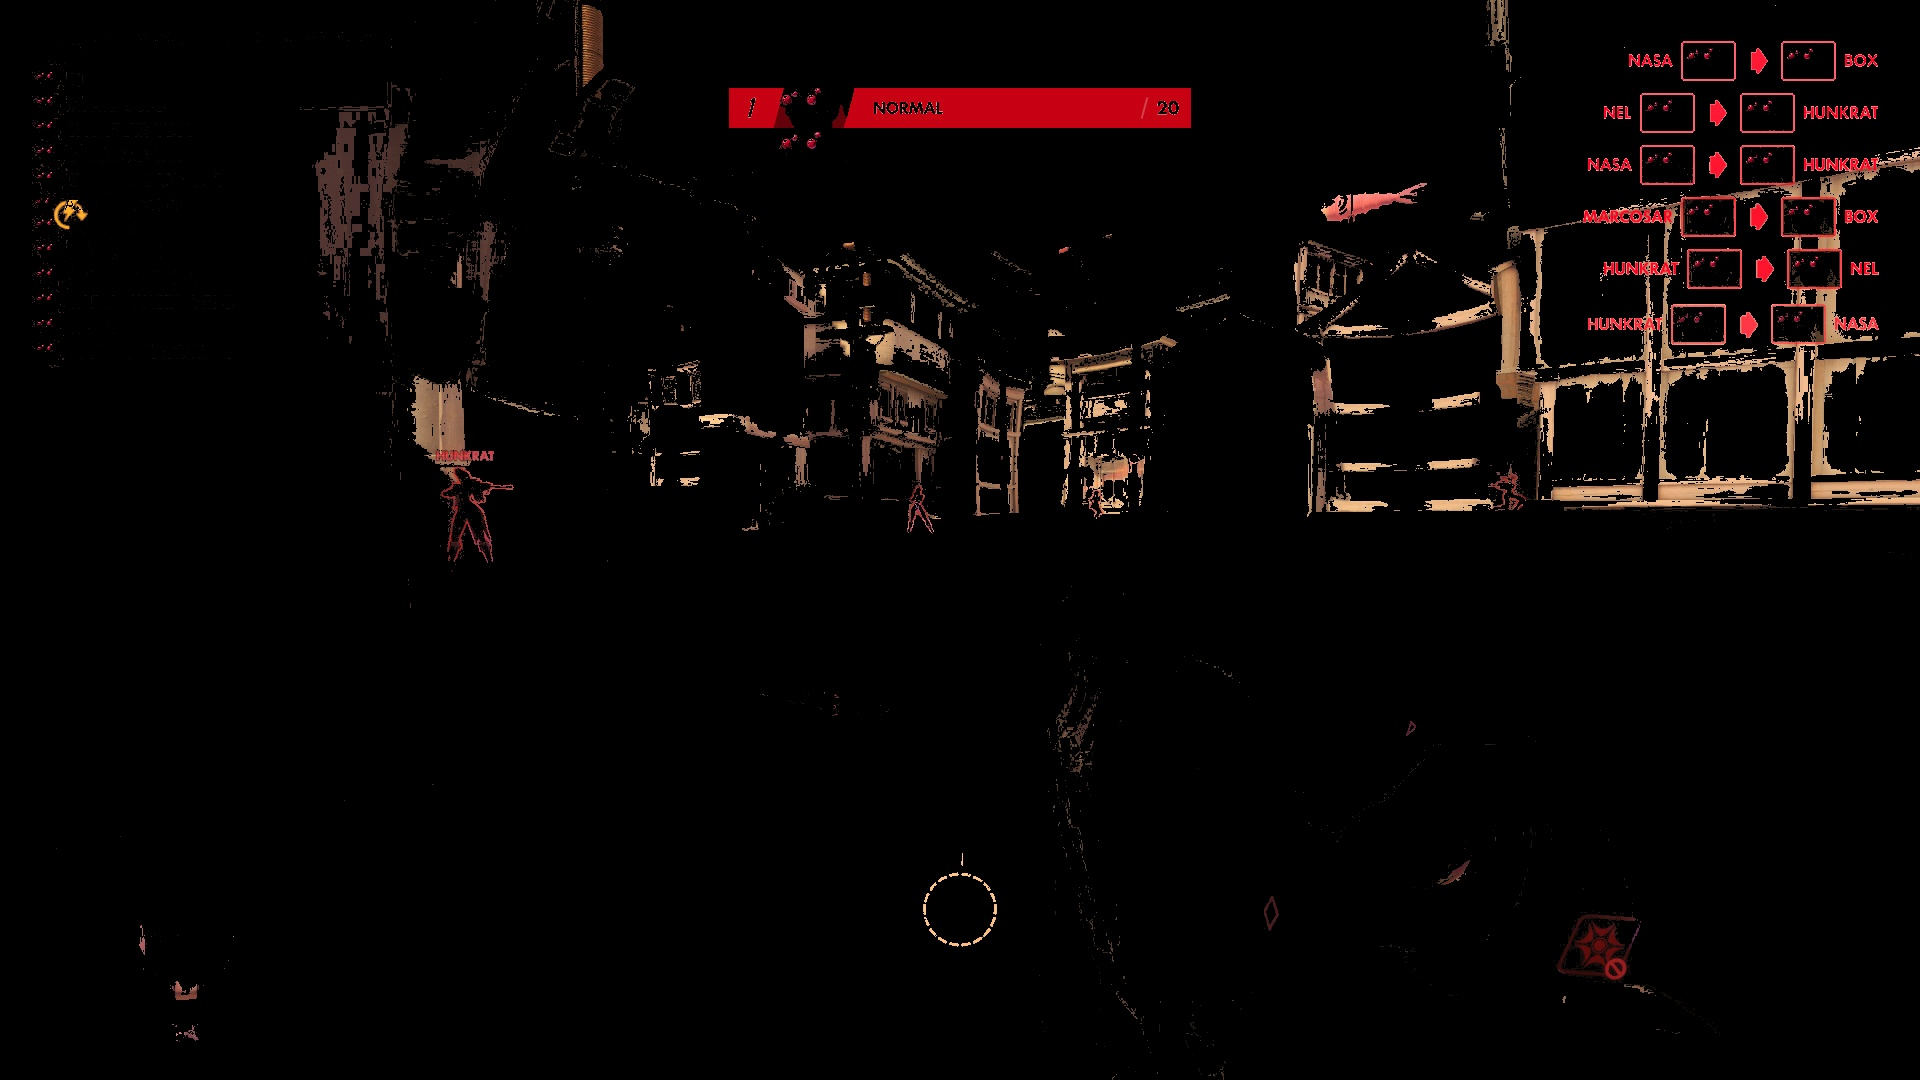widowmaker: (439, 465, 502, 582), (903, 484, 939, 541), (1491, 471, 1524, 513), (1087, 489, 1104, 524)
